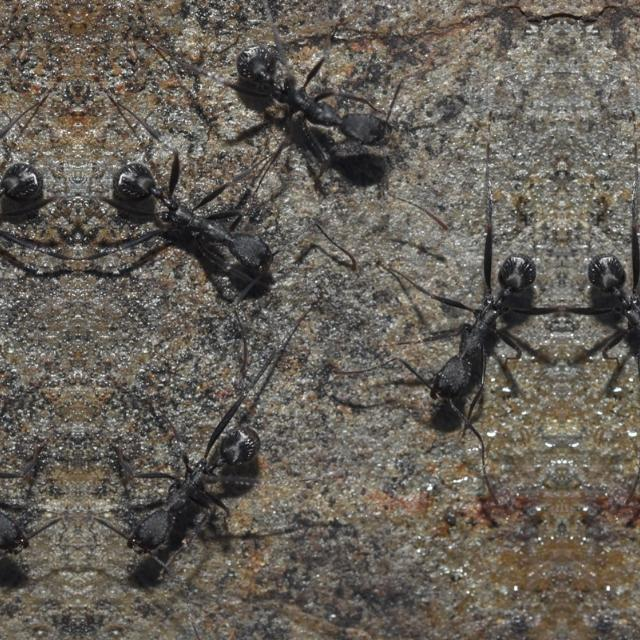Apheanogaster: (406, 224, 558, 450), (96, 128, 288, 304), (102, 392, 274, 582), (216, 9, 400, 183), (564, 224, 640, 450), (0, 128, 58, 302), (0, 392, 52, 582)
